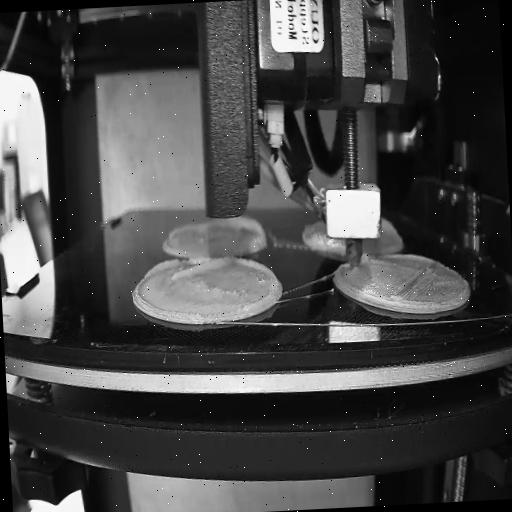over_extrusion: (142, 258, 232, 286), (235, 255, 280, 310)
